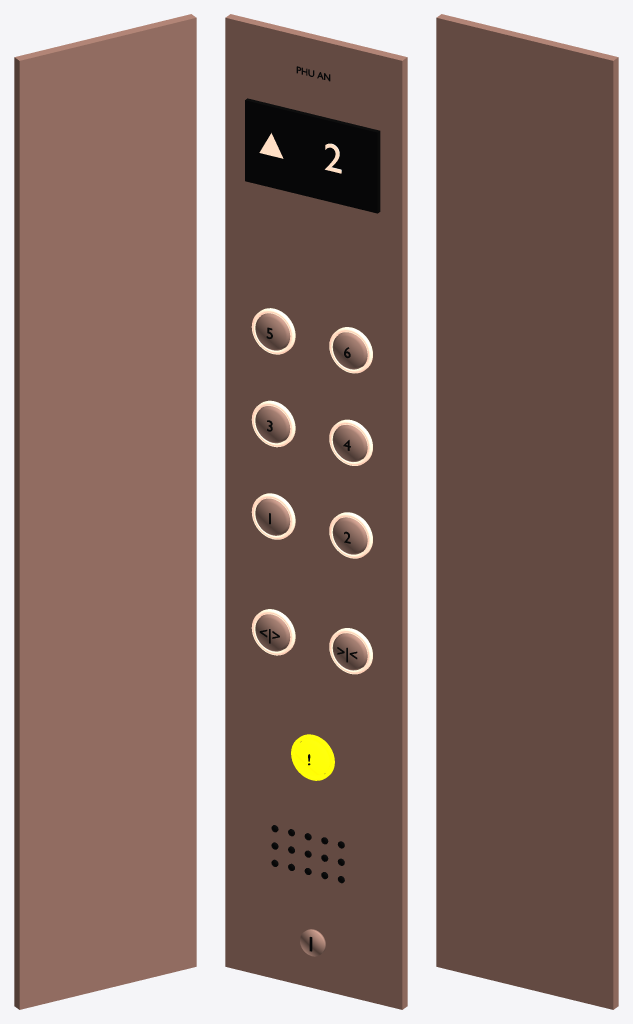
Rendered from cop_rose.glb.
3 renders of one model, left to right at view 1: azimuth 30°, elevation 25°; view 2: azimuth 150°, elevation 25°; view 3: azimuth 330°, elevation 25°, orthographic.
Parts seen in each view (by area): view 1: COP_Plate; view 2: COP_Plate, COP_Display, COP_Btn_Alarm_Cap, COP_Btn_1_Cap, COP_Btn_5_Cap, COP_Btn_4_Cap, COP_Btn_6_Cap, COP_Btn_2_Cap, COP_Btn_3_Cap, COP_Btn_Close_Cap, COP_Btn_Open_Cap, COP_Btn_5_Ring (+9 smaller); view 3: COP_Plate.
Boxes of the visible parts, x1,y1,x2,y2 form: COP_Plate: [14, 14, 196, 1009]; COP_Plate: [225, 14, 407, 1009]; COP_Display: [245, 98, 380, 213]; COP_Btn_Alarm_Cap: [294, 739, 329, 776]; COP_Btn_1_Cap: [255, 498, 290, 535]; COP_Btn_5_Cap: [255, 313, 290, 350]; COP_Btn_4_Cap: [332, 425, 367, 461]; COP_Btn_6_Cap: [332, 332, 367, 369]; COP_Btn_2_Cap: [332, 517, 367, 554]; COP_Btn_3_Cap: [255, 406, 290, 443]; COP_Btn_Close_Cap: [332, 633, 367, 670]; COP_Btn_Open_Cap: [255, 614, 290, 651]; COP_Btn_5_Ring: [251, 308, 295, 354]; COP_Plate: [436, 14, 618, 1009].
Bounding box in the file's own units: 0.16 × 0.82 × 0.0159.
